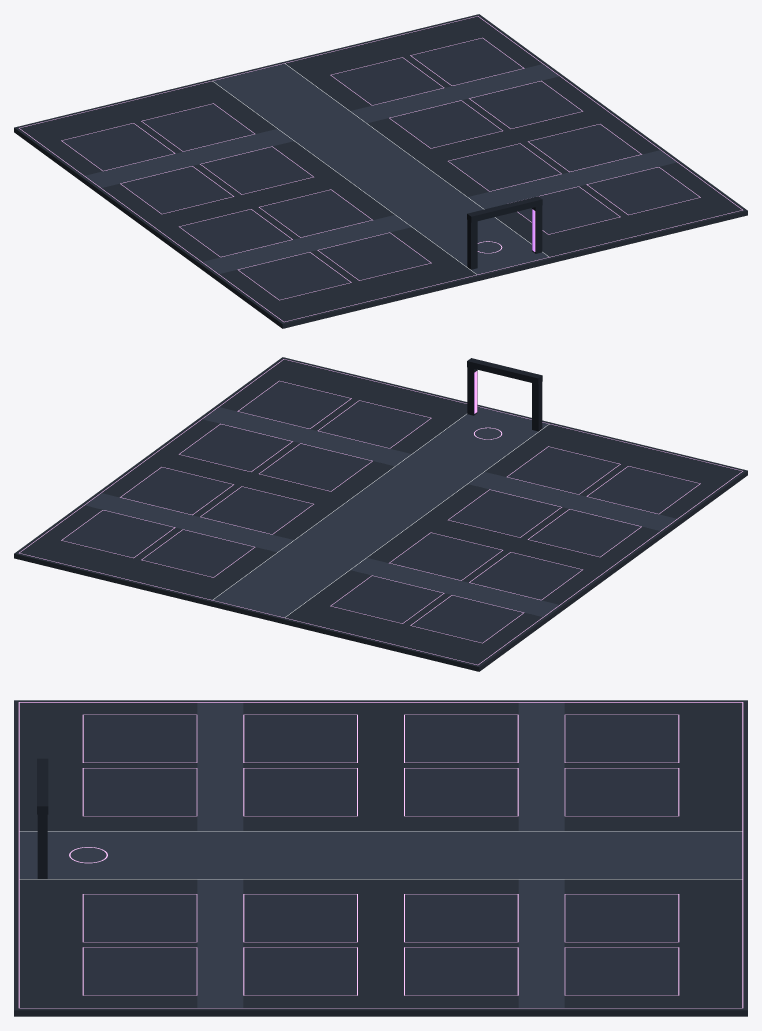
3 renders of one model, top to bottom at view 1: azimuth 30°, elevation 25°; view 2: azimuth 150°, elevation 25°; view 3: azimuth 270°, elevation 25°, orthographic. The views are drawn at different scales.
Visible parts, largest first — view 1: district_cero.lod1; view 2: district_cero.lod1; view 3: district_cero.lod1.
Part boxes in pixels (box(x1,y1,x2,y2)): district_cero.lod1: box(14, 14, 747, 328); district_cero.lod1: box(14, 357, 747, 671); district_cero.lod1: box(14, 700, 747, 1016).
Bounding box in the file's own units: 64 × 7.62 × 64.
